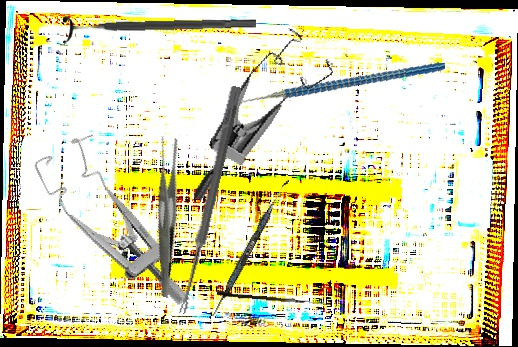Chopper: (229, 31, 446, 148)
Dressing Forceps: (110, 133, 221, 299)
Fixation Ring: (62, 8, 257, 46)
Hook Surgical: (216, 291, 331, 305)
Spatula Surgical: (210, 175, 290, 320)
Speculum: (30, 122, 191, 336), (191, 16, 342, 227)
Surgical Spoon: (177, 85, 242, 315)
